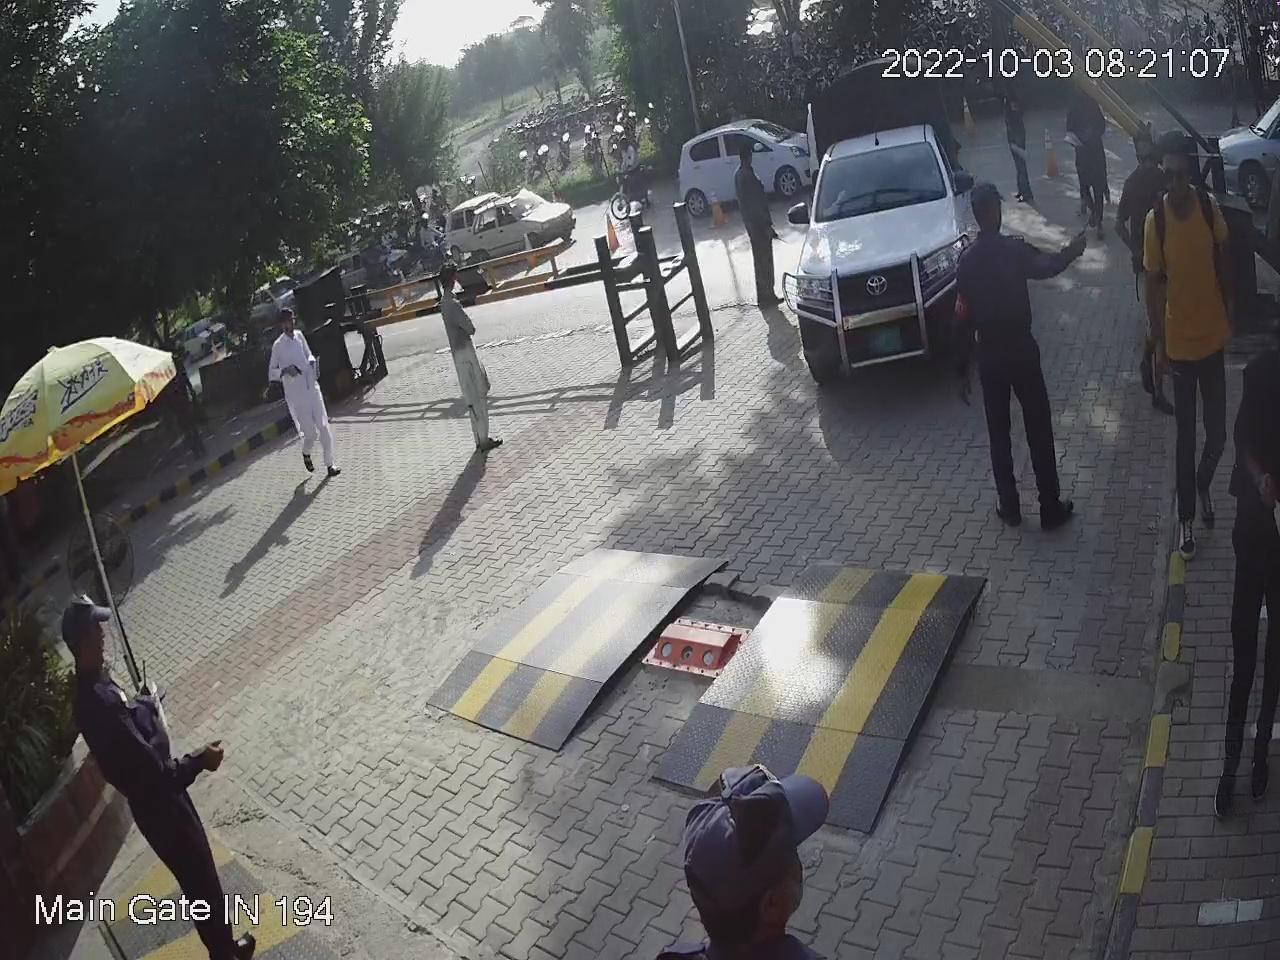windshield: (810, 135, 952, 230)
